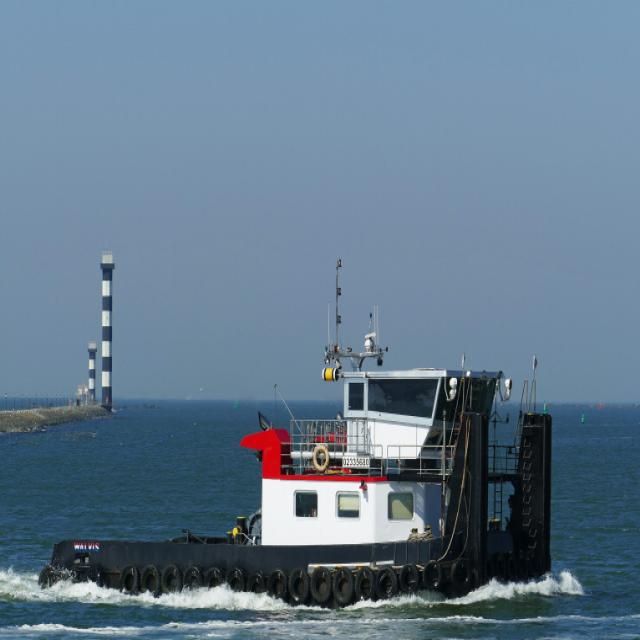tugboat: (34, 255, 556, 622)
